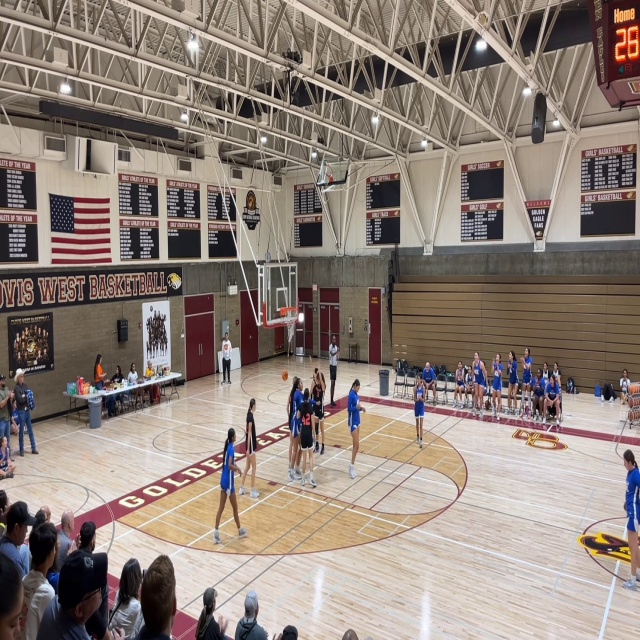Basketball: (281, 371, 288, 381)
